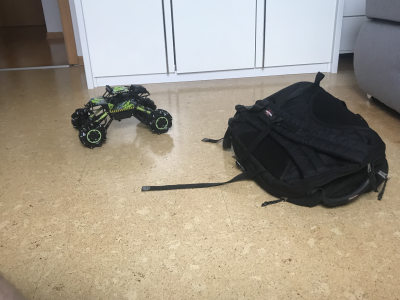remote control car: (66, 81, 174, 149)
